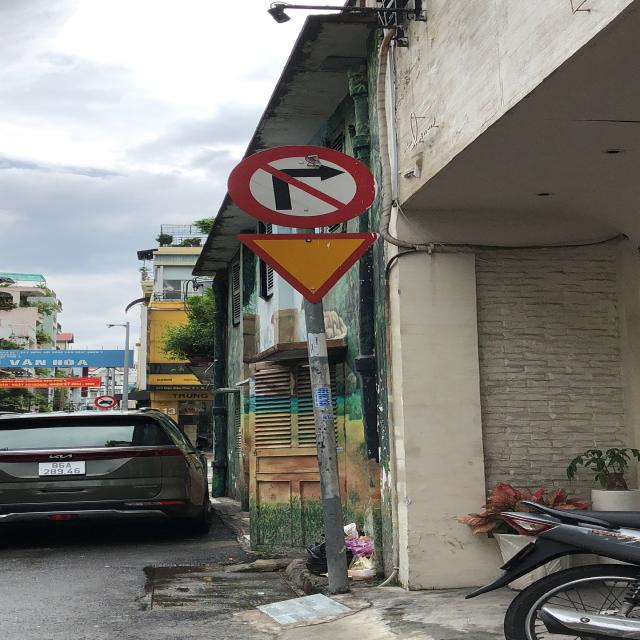Bien bao cam re phai: (210, 140, 384, 230)
Bien bao giao nhau voi duong uu tien: (228, 230, 399, 308)
